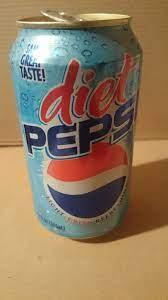metal: (8, 5, 141, 238)
